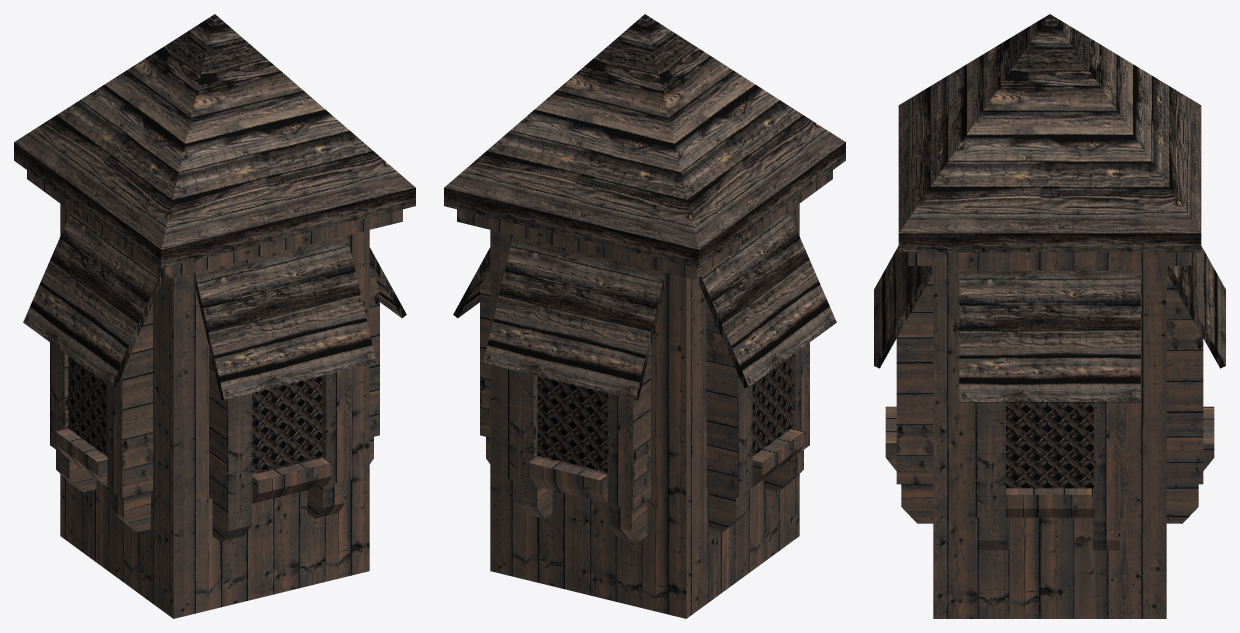
File: Chemny.fbx
3 views of the same model, side by side, from view 1: azimuth 30°, elevation 25°; view 2: azimuth 150°, elevation 25°; view 3: azimuth 270°, elevation 25° (orthographic). The views are drawn at different scales.
Parts seen in each view (by area): view 1: Chemny01; view 2: Chemny01; view 3: Chemny01.
Part boxes in pixels (x1,y1,x2,y2): Chemny01: (14, 14, 415, 618); Chemny01: (444, 14, 845, 618); Chemny01: (874, 14, 1225, 618).
Bounding box in the file's own units: 2595 × 4523 × 2595.
